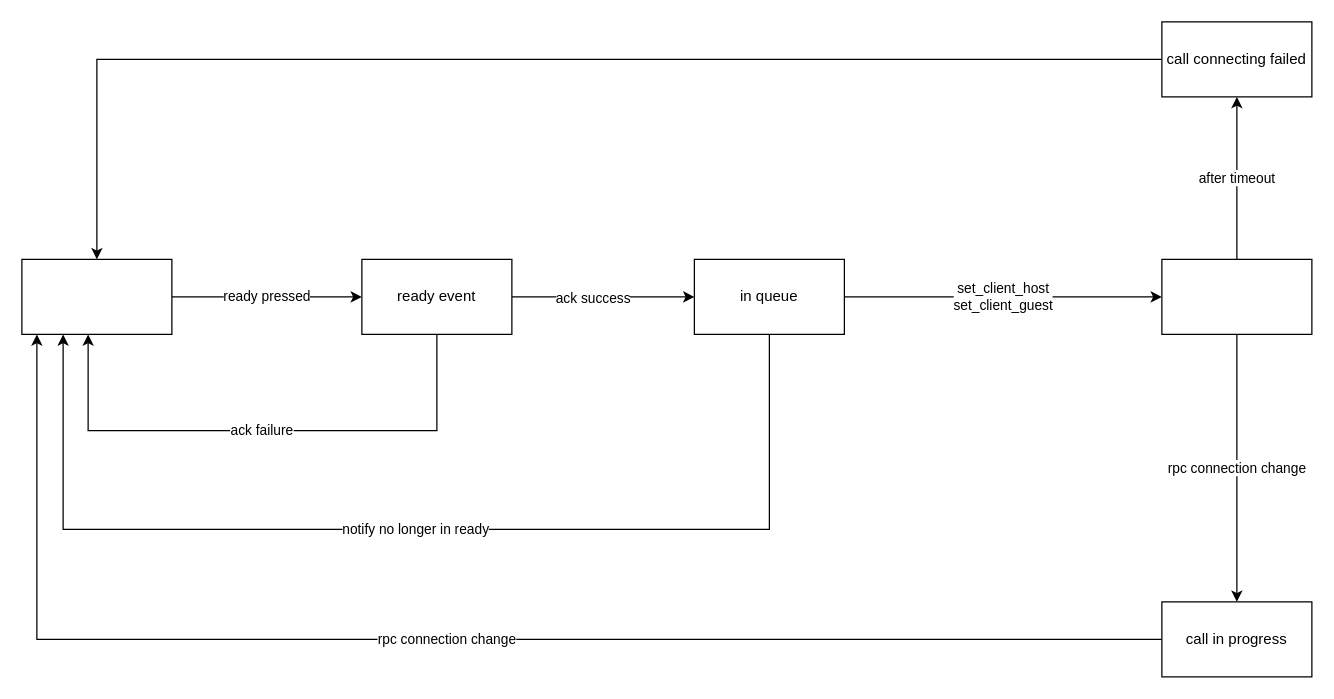
Some shapes in this 1334 by 699 pixel diagram are drawn without their labels. Here are the shapes that lost their labels. From the top down, the centre of each, then its label:
At [96,296]: "waiting".
At [1236,296]: "call connecting".
